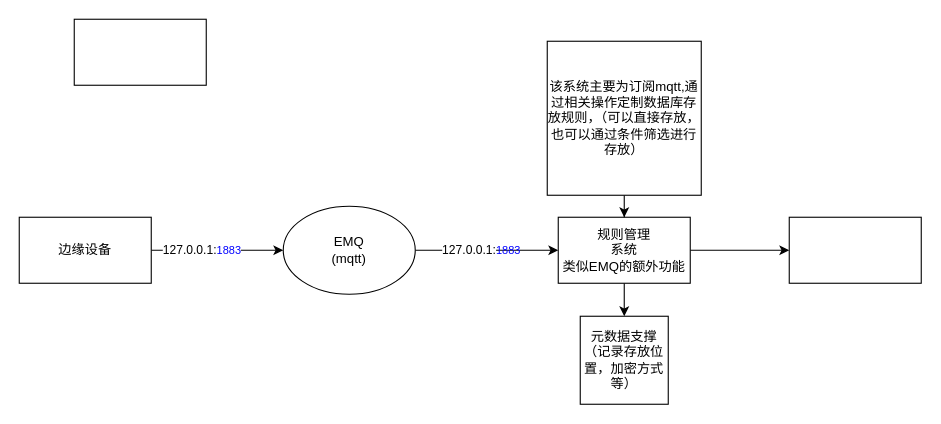
The diagram is 941 pixels wide and 424 high, and some of its shapes have lost their labels. The shapes that lost their labels are listed below. From the top down, each one's centre as x and y in pixels, then its label:
At pixel 139 51: "数控".
At pixel 854 249: "时序数据库".
